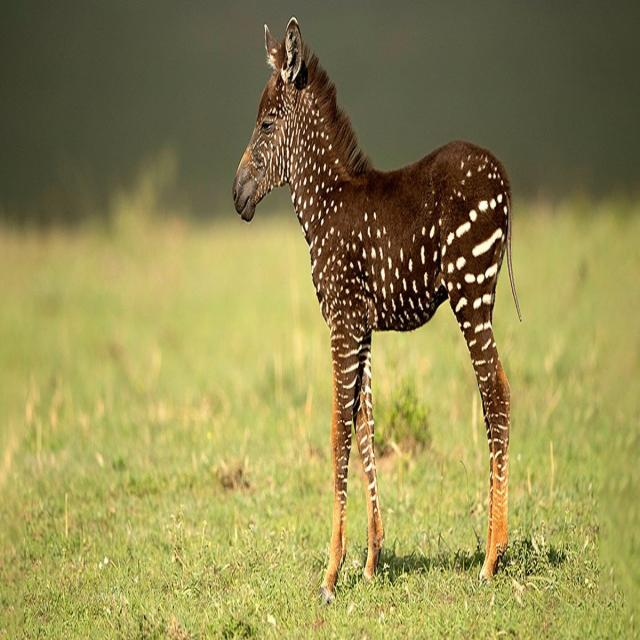zebra: (233, 17, 518, 601)
